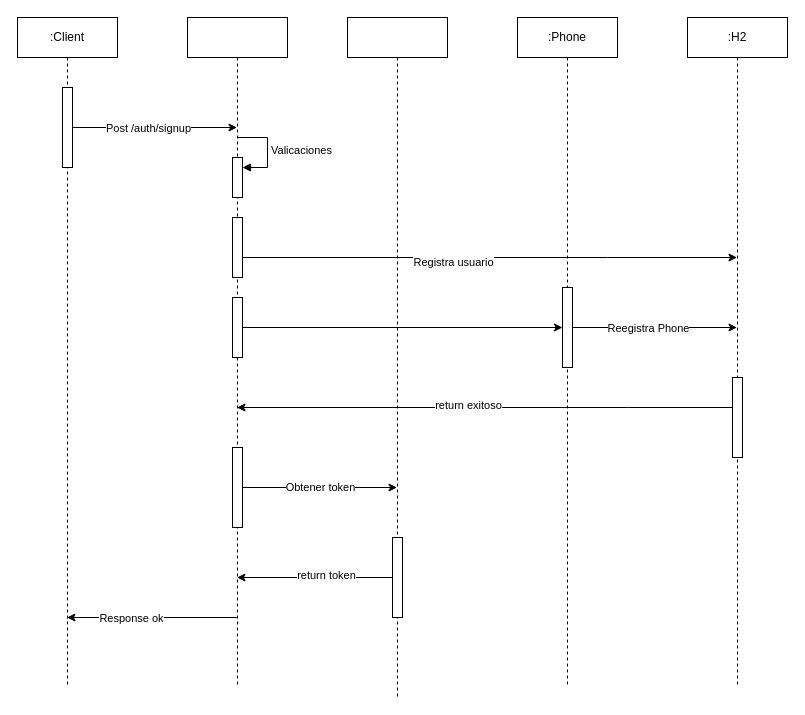
Some shapes in this 805 by 715 pixel diagram are drawn without their labels. The box of each missing label's shape, as (x1, y1, x2, y2) in pixels:
:JWT: (346, 16, 448, 698)
:User: (186, 16, 288, 688)
